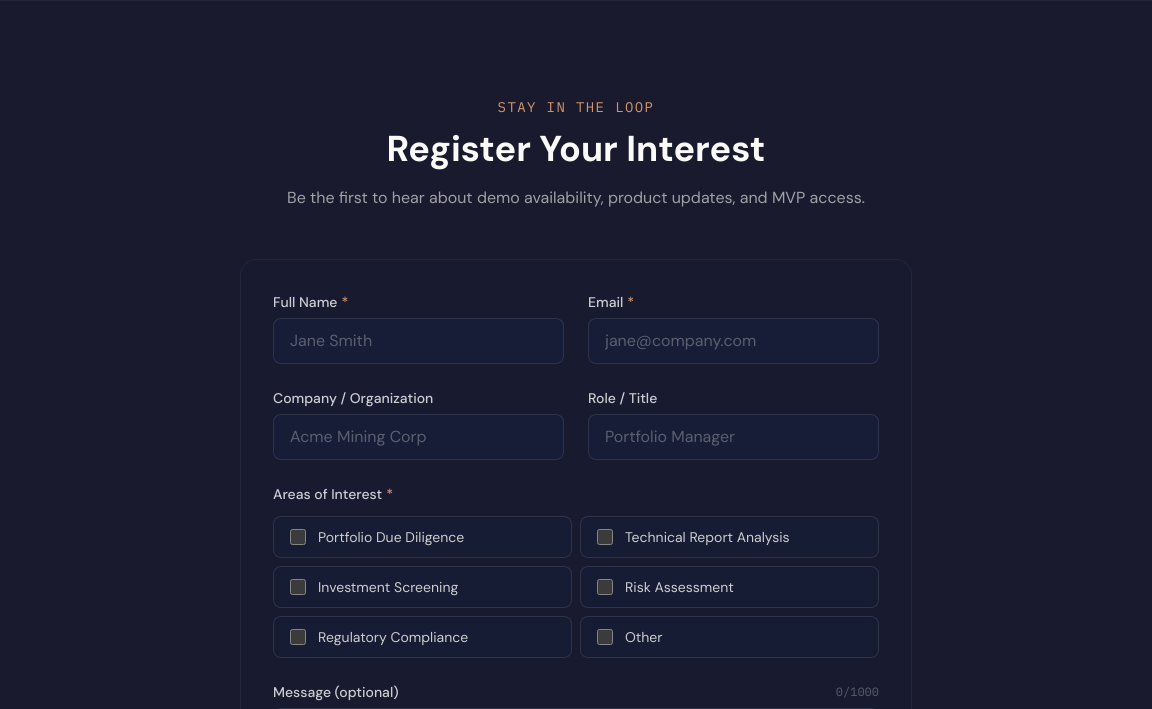
Test: RegistrationForm › shows other interest input only when Other is selected
Expected: the field labelled "other interest" is not shown
Step 1. Click the checkbox labelled "Other" → coordinates (605, 637), box [597,629,613,645]
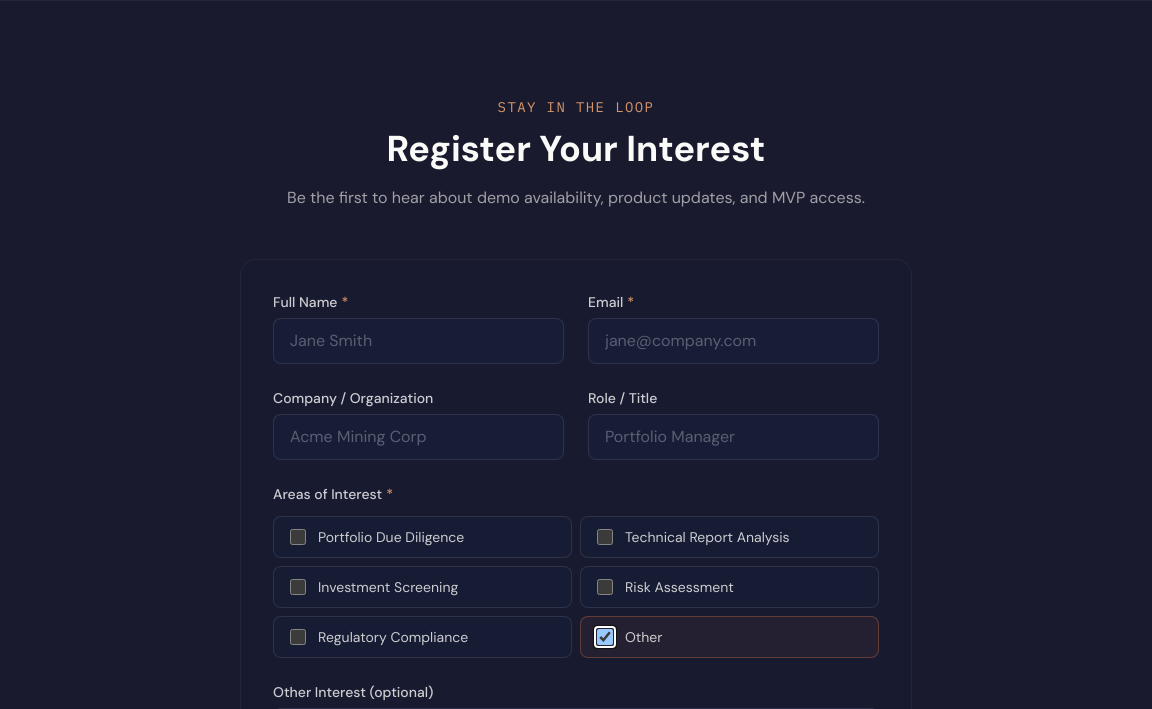
Step 2. Click the checkbox labelled "Other" → coordinates (605, 637), box [597,629,613,645]
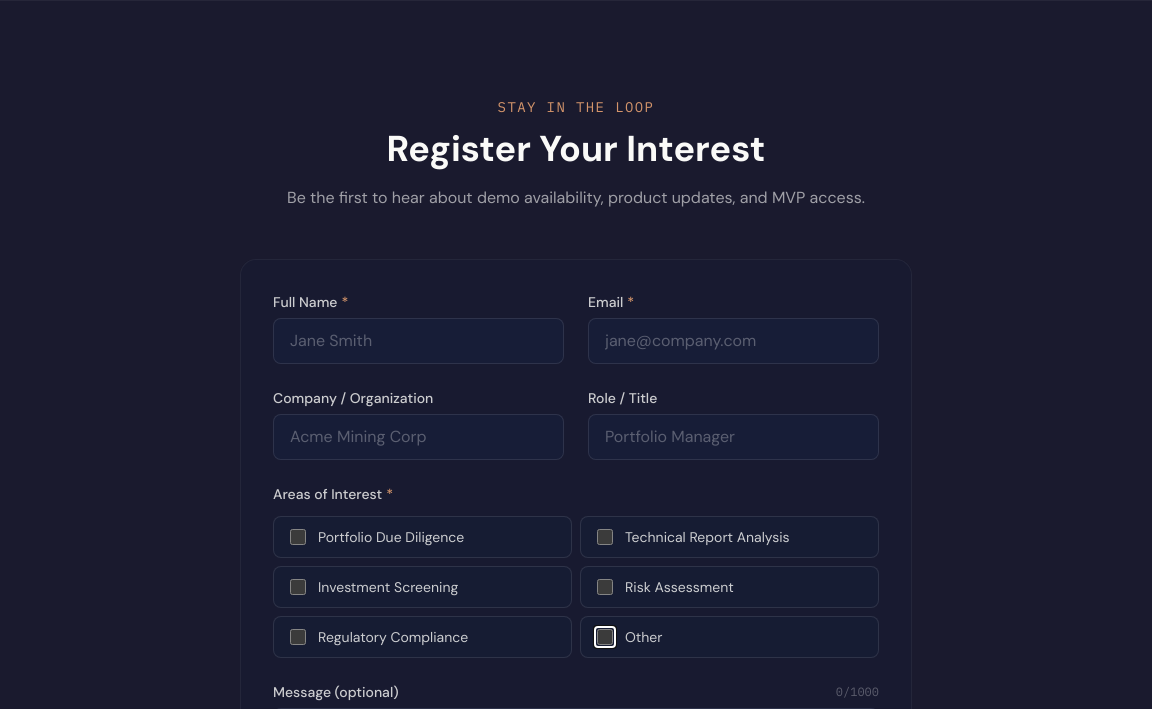
Result: the label labelled "Other Interest" is gone
